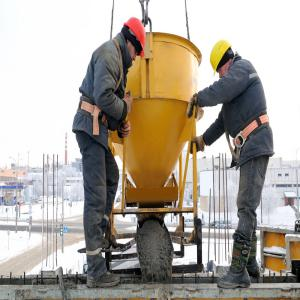red: (124, 18, 148, 62)
yellow: (210, 39, 235, 80)
